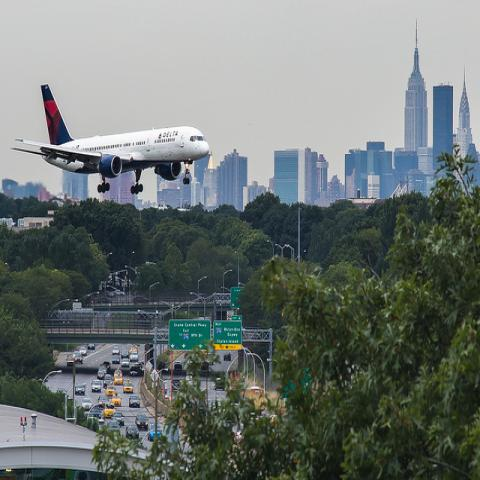car: (66, 235, 286, 427), (148, 423, 162, 441), (125, 423, 139, 439), (136, 412, 148, 430), (104, 402, 117, 418), (128, 394, 140, 408), (111, 392, 122, 406), (91, 380, 102, 394), (103, 374, 113, 389), (123, 382, 134, 393), (174, 360, 183, 372), (106, 385, 115, 397), (114, 375, 123, 385), (97, 370, 105, 379)
